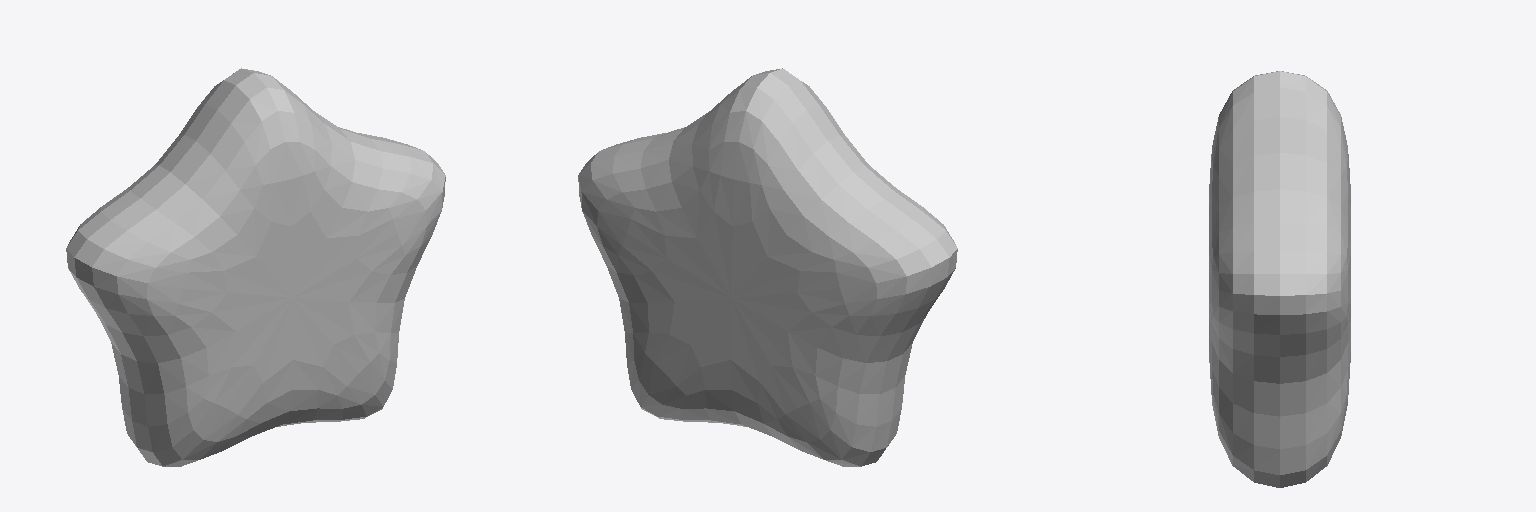
The model's file is Star_Yellow.obj.
3 renders of one model, left to right at view 1: azimuth 30°, elevation 25°; view 2: azimuth 150°, elevation 25°; view 3: azimuth 270°, elevation 25°, orthographic.
Visible parts, largest first — view 1: Star; view 2: Star; view 3: Star.
Boxes of the visible parts, box(x1,y1,x2,y2) form: Star: box(66, 68, 445, 466); Star: box(578, 68, 957, 466); Star: box(1209, 71, 1350, 487).
Bounding box in the file's own units: 1.47 × 1.42 × 0.5.